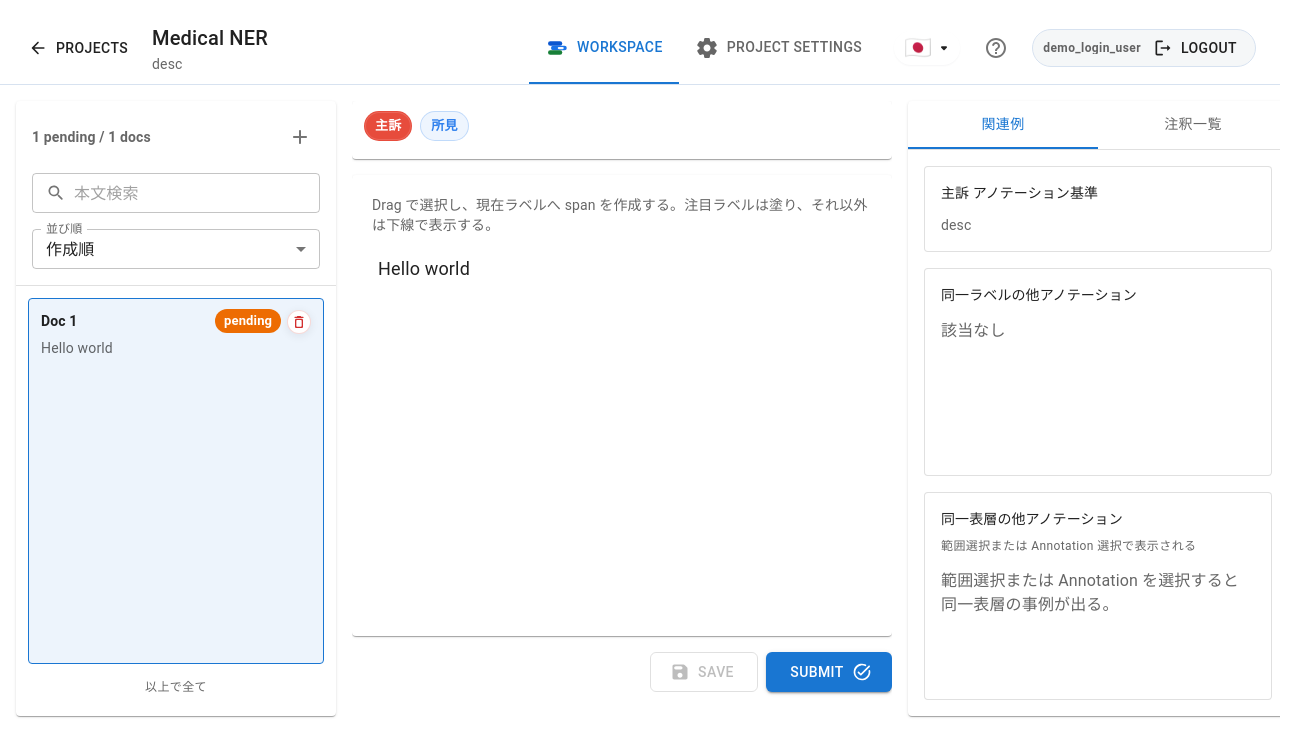
ProjectShell submit behavior › submits an empty pending document as verified and updates pending count
This screenshot has width=1292, height=732.
expect the text "1 pending / 1 docs" is shown: met, box 32,127 -> 151,147
Click the button "Submit" at (829, 672), box 766,652 -> 892,692
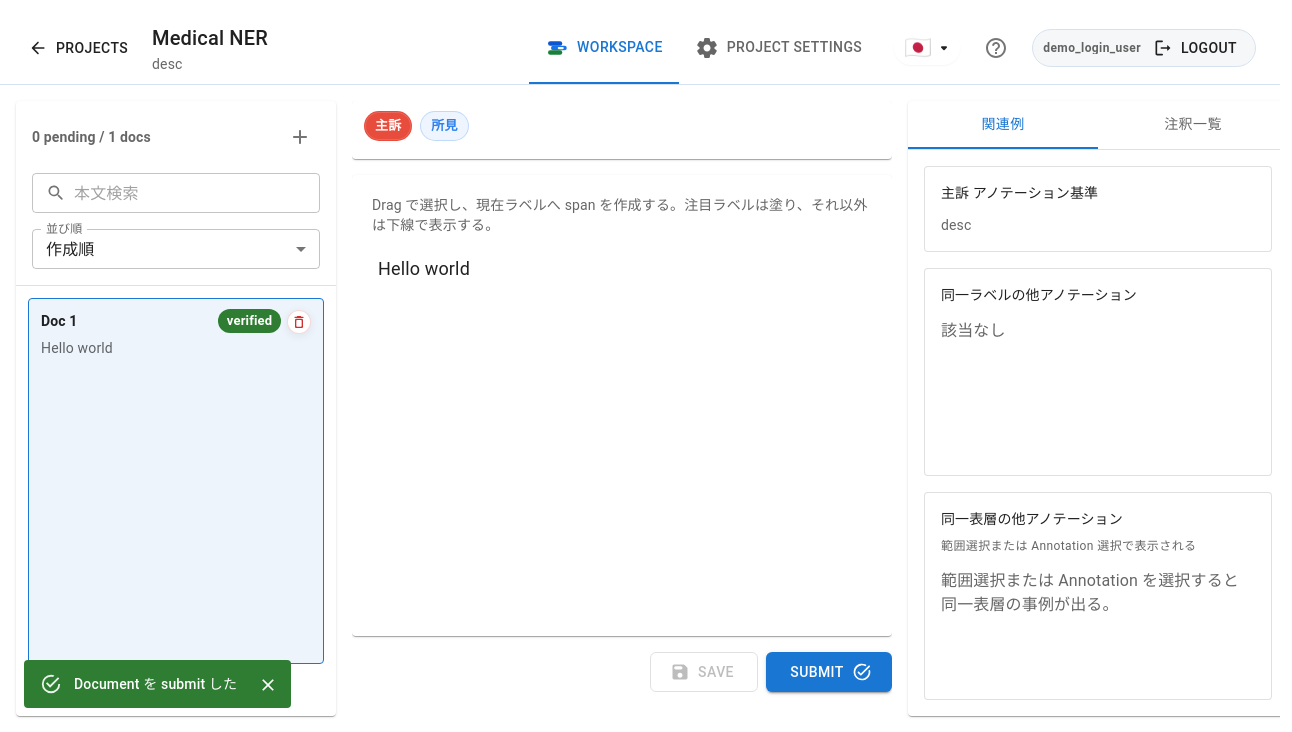
expect the text "0 pending / 1 docs" is shown: met, box 32,127 -> 151,147
